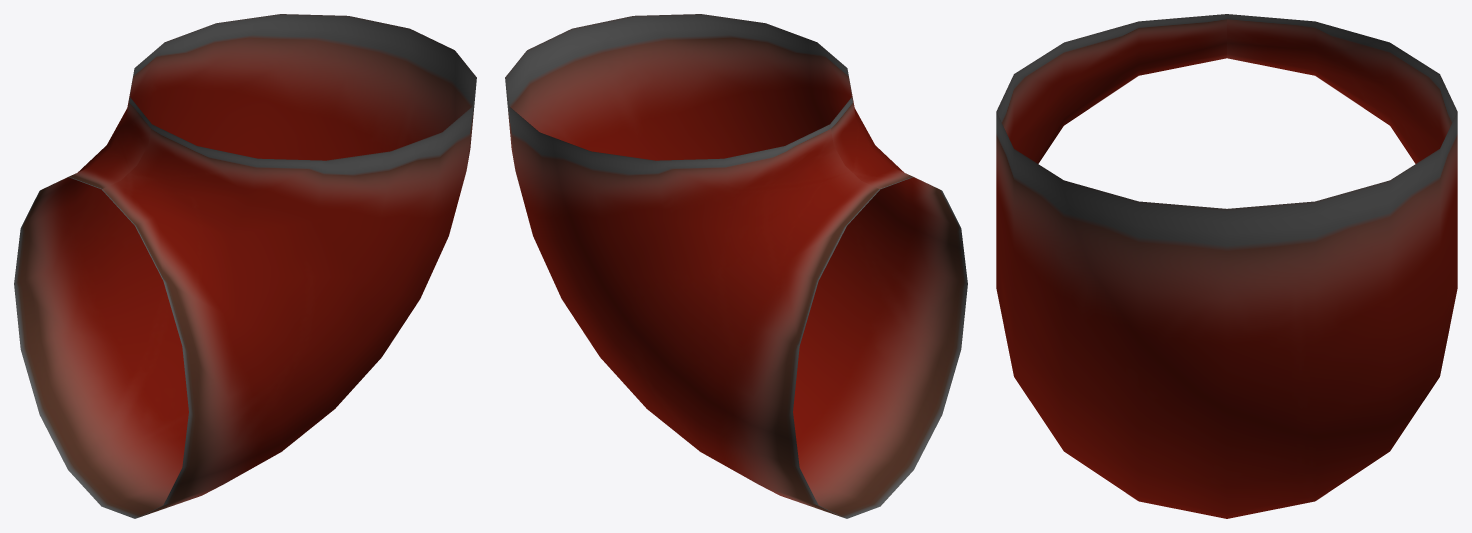
Rendered from pipe01_crn_8b.fbx.
The picture shows the model from 3 angles, left to right: view 1: azimuth 30°, elevation 25°; view 2: azimuth 150°, elevation 25°; view 3: azimuth 270°, elevation 25°; orthographic projection. The views are drawn at different scales.
Parts seen in each view (by area): view 1: pipe01_crn_8b; view 2: pipe01_crn_8b; view 3: pipe01_crn_8b.
Boxes of the visible parts, x1,y1,x2,y2 form: pipe01_crn_8b: [14, 14, 476, 518]; pipe01_crn_8b: [505, 14, 967, 518]; pipe01_crn_8b: [996, 14, 1457, 518].
Bounding box in the file's own units: 14 × 14 × 12.
